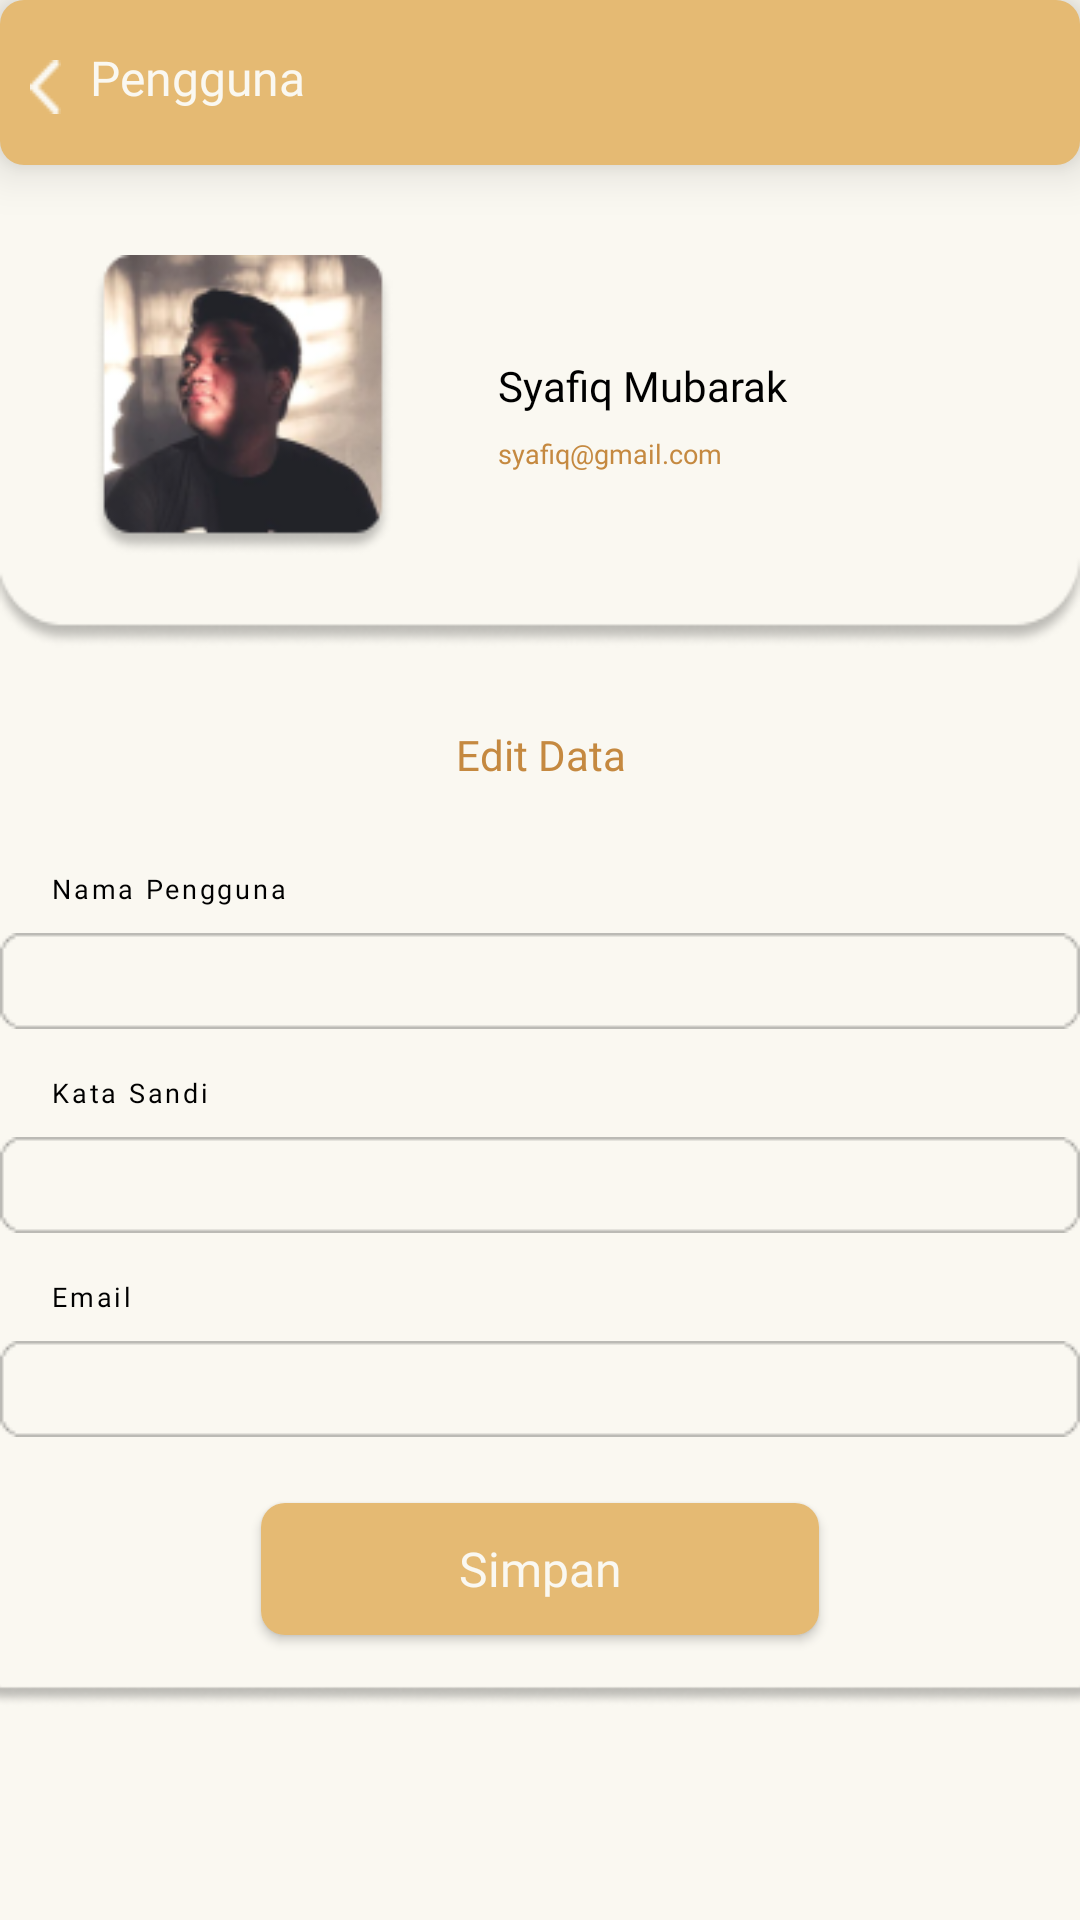

Named icons in this screenshot (1080*1920) and their bounding boxes, rect(x1, y1, x2, y2):
back putih: rect(30, 60, 61, 114)
profile: rect(103, 255, 383, 545)
